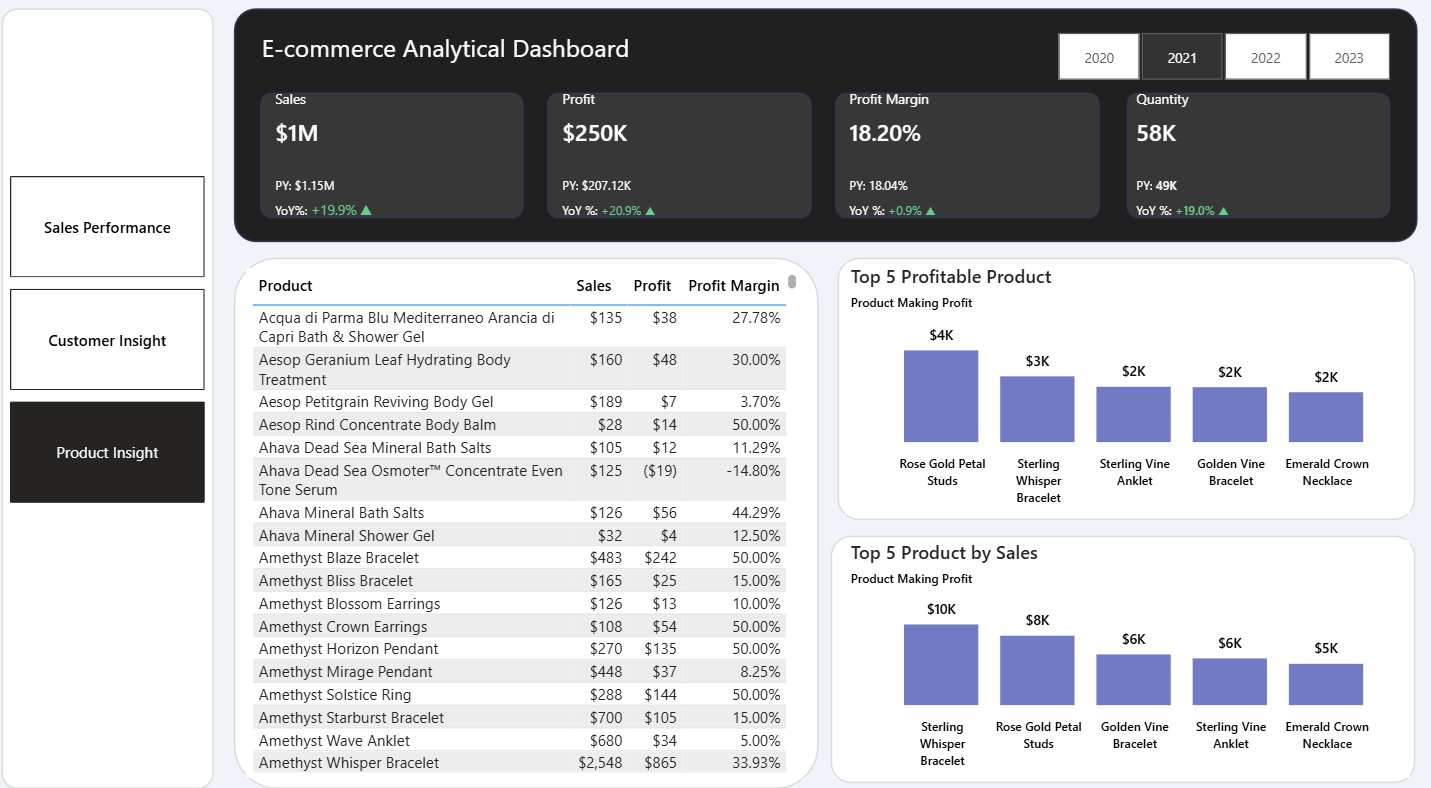

What the dashboard file says about the page in this screenshot:
{"tool":"powerbi","page":{"name":"Product Insight","canvas":[1280,720],"ordinal":2},"visuals":[{"type":"cardVisual","fields":{"Data":["Measures Table.Sales","Measures Table.Profit","Measures Table.Profit Margin","Measures Table.Quantity"]},"box":[242,73,1019,147],"z":0},{"type":"slicer","fields":{"Values":["Dim Date.Year"]},"box":[921.1,30.7,340.7,55.3],"z":1000},{"type":"tableEx","fields":{"Values":["DimProduct.Product","Measures Table.Sales","Measures Table.Profit","Measures Table.Profit Margin"]},"box":[233.5,244.4,488.9,448],"z":2000},{"type":"pageNavigator","box":[26.3,163.3,171.2,287.1],"z":3000},{"type":"clusteredColumnChart","title":"Top 5 Profitable Product","fields":{"Category":["DimProduct.Product"],"Y":["Measures Table.Profit"]},"box":[759.5,240.6,496.1,220.4],"z":4000},{"type":"clusteredColumnChart","title":"Top 5 Product by Sales","fields":{"Category":["DimProduct.Product"],"Y":["Measures Table.Sales"]},"box":[759.5,482.9,496.1,209],"z":5000},{"type":"textbox","box":[242.3,30.7,359.1,55.3],"z":5001}]}

Visuals, with their boxes in screenshot pixels (x1, y1, x2, y2), scaled from the page's 1280x720 canvas onto the 1431x788 screenshot:
cardVisual - Measures Table.Sales x Measures Table.Profit: [271,80,1410,241]
slicer - Dim Date.Year: [1030,34,1411,94]
tableEx - DimProduct.Product x Measures Table.Sales: [261,267,808,758]
pageNavigator: [29,179,221,493]
"Top 5 Profitable Product" clusteredColumnChart: [849,263,1404,505]
"Top 5 Product by Sales" clusteredColumnChart: [849,529,1404,757]
textbox: [271,34,672,94]
